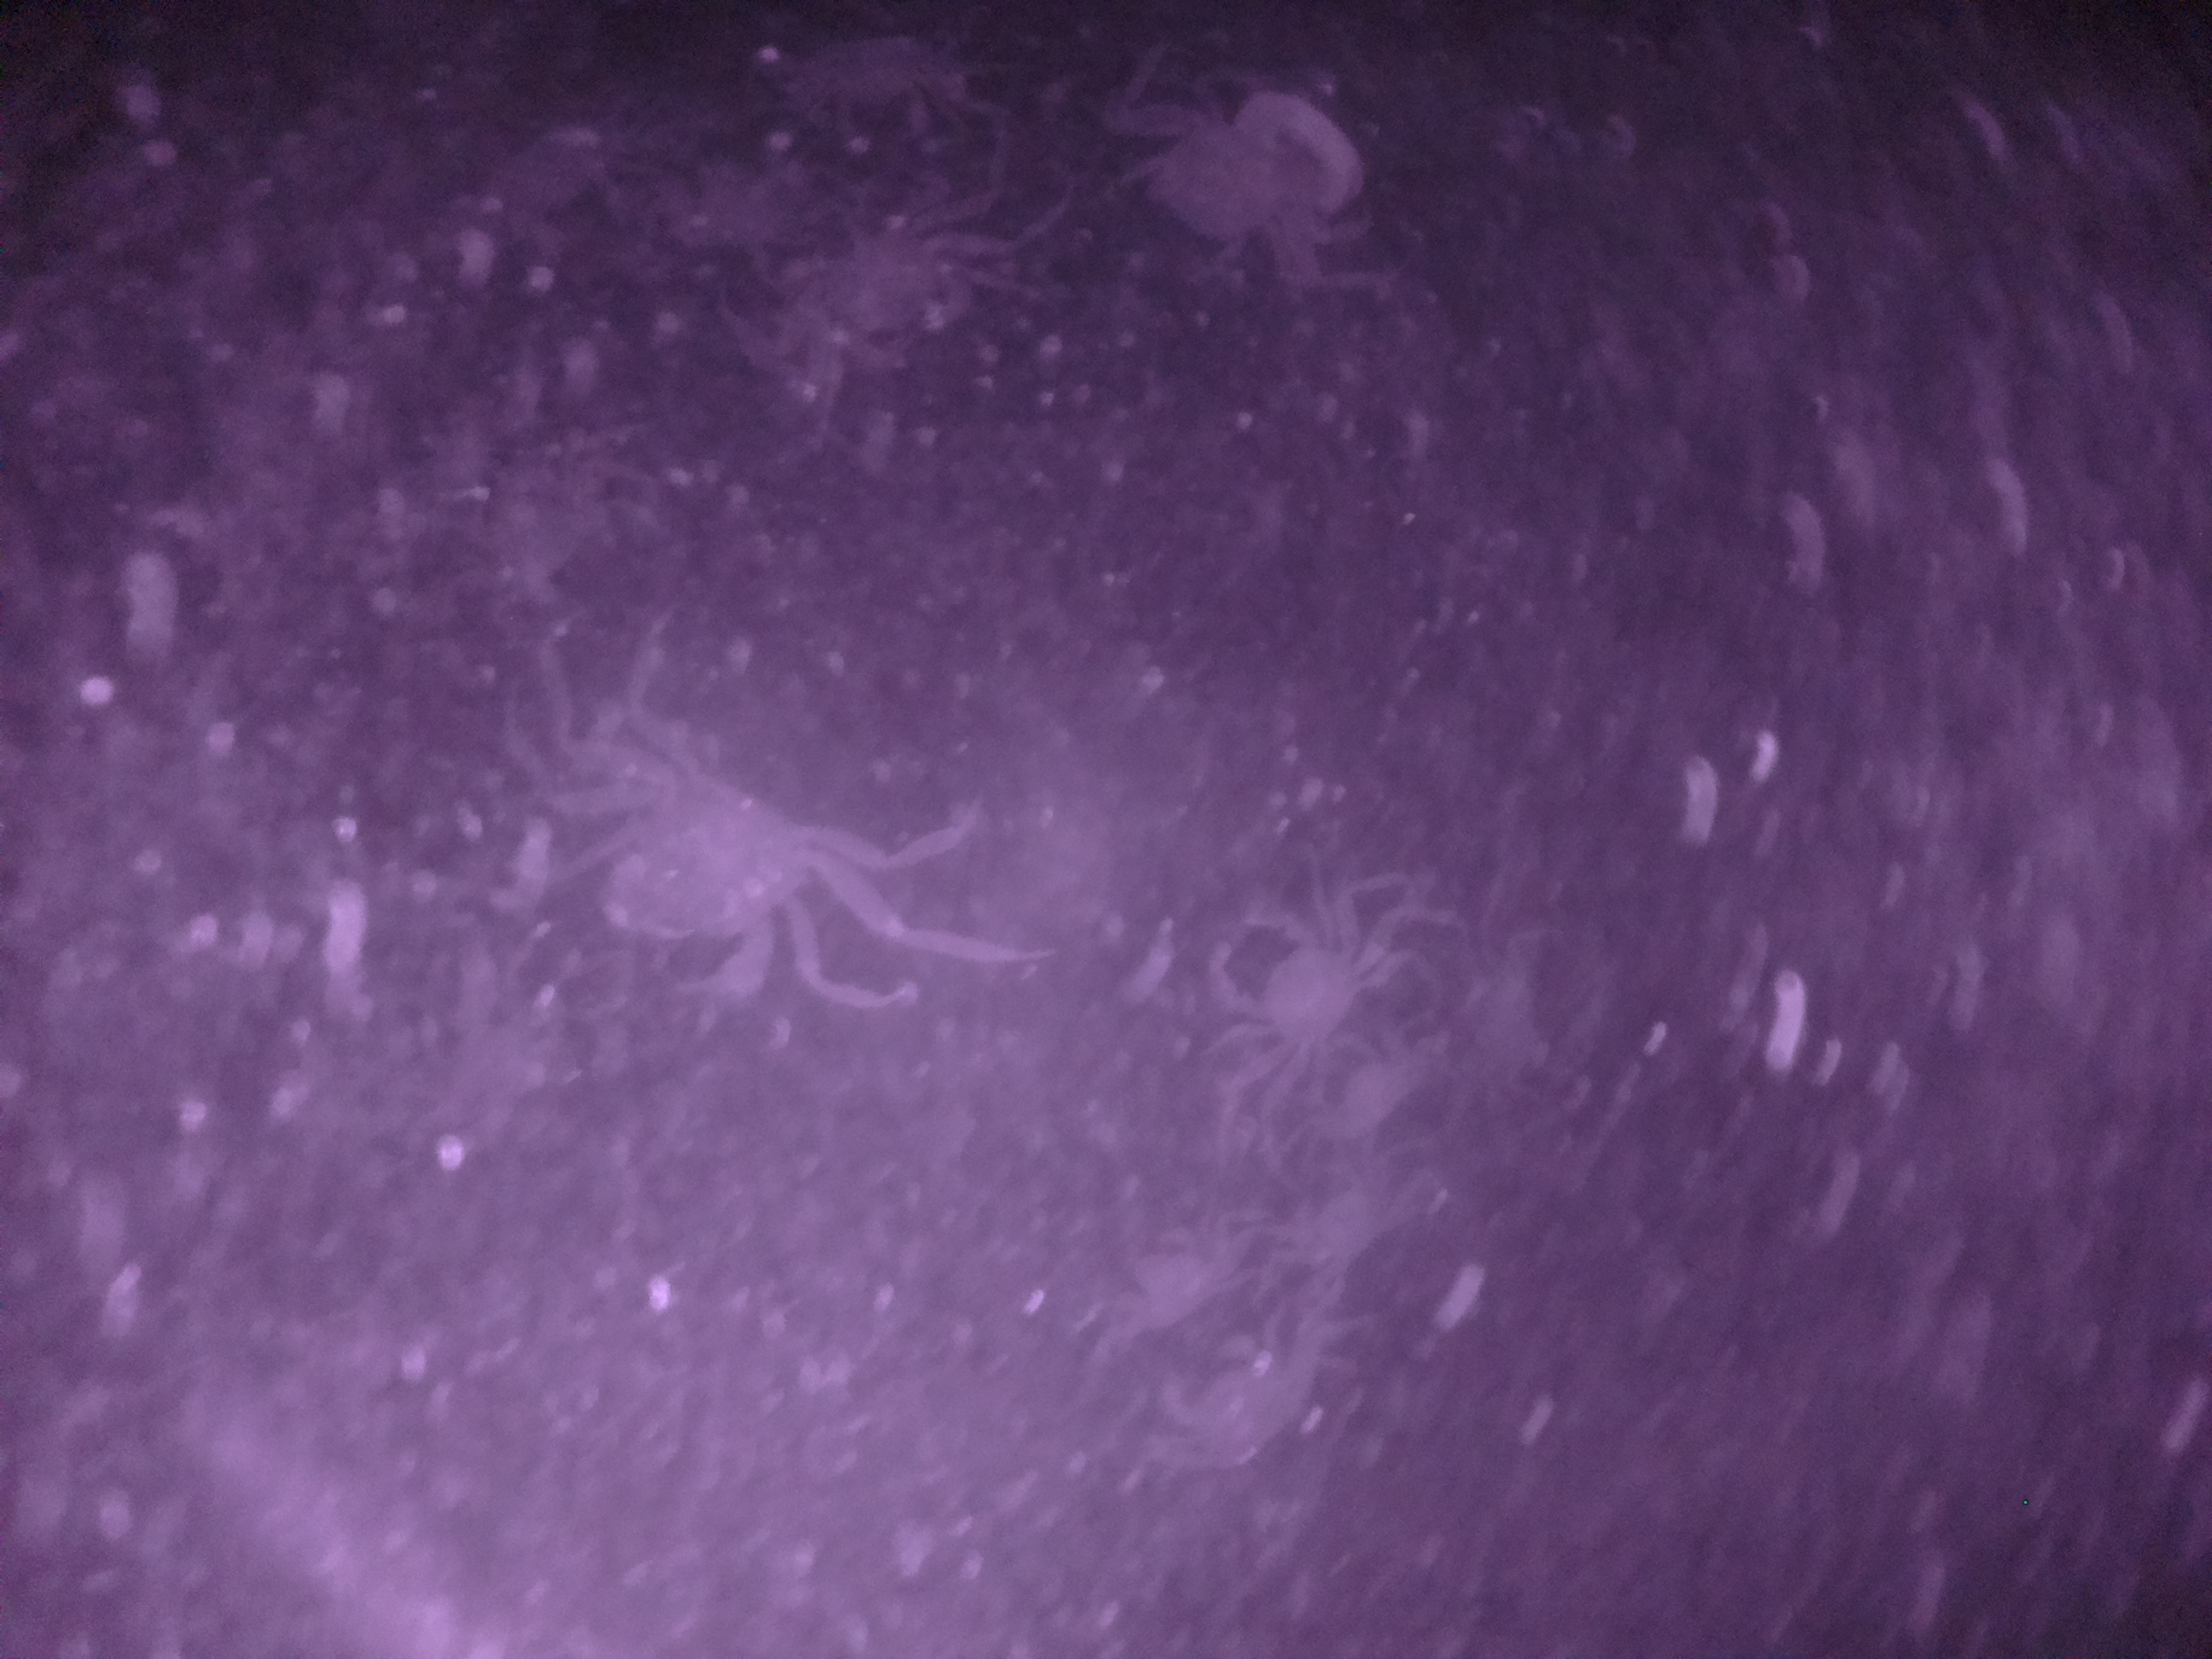Crab: (1195, 884, 1372, 1086), (1146, 1323, 1310, 1492)
